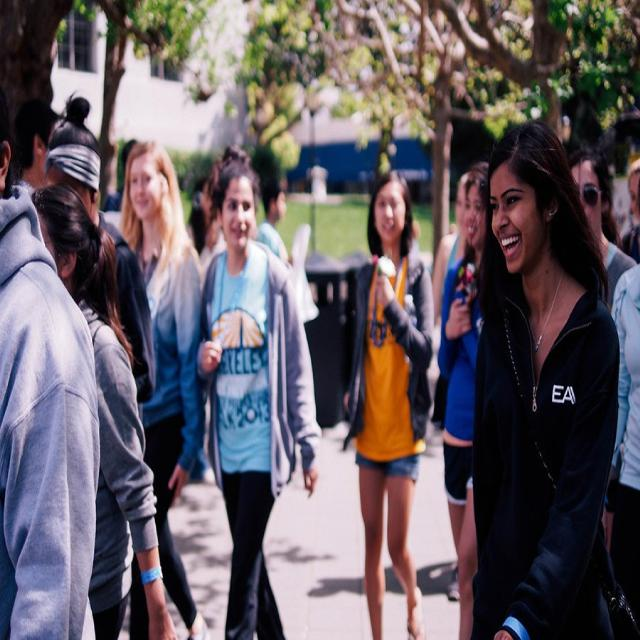body: (12, 100, 324, 491), (468, 117, 637, 640), (29, 180, 181, 638), (194, 141, 324, 640), (0, 30, 102, 640), (336, 163, 439, 639), (116, 135, 212, 640), (550, 101, 640, 638), (43, 95, 159, 408), (436, 161, 492, 640), (427, 160, 477, 384), (300, 542, 467, 607), (254, 174, 289, 265), (362, 134, 413, 186)
